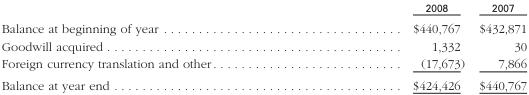table: (0, 0, 526, 91)
table column: (0, 0, 313, 91), (313, 0, 471, 91), (471, 0, 526, 91)
table column header: (0, 0, 526, 17)
table row: (0, 17, 526, 37), (0, 54, 526, 74), (0, 0, 526, 17), (0, 37, 526, 54), (0, 74, 526, 91)
